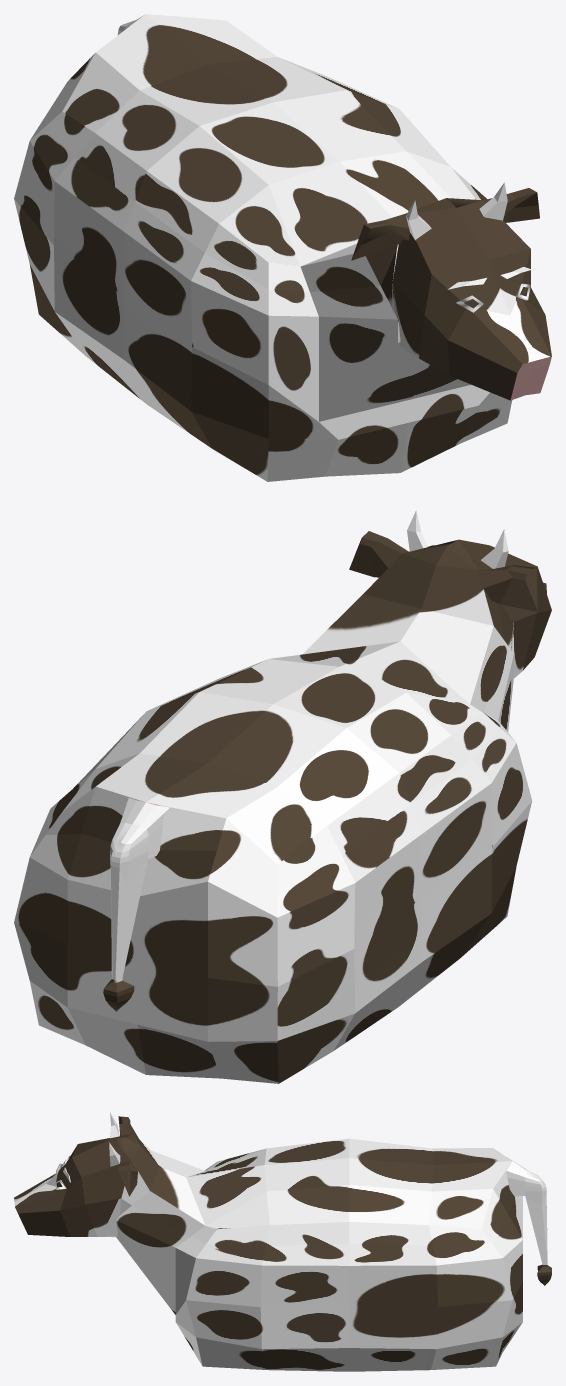
Rendered from KahverengiInekSon 1.fbx.
3 views of the same model, one above another, from view 1: azimuth 30°, elevation 25°; view 2: azimuth 150°, elevation 25°; view 3: azimuth 270°, elevation 25° (orthographic). The views are drawn at different scales.
Parts seen in each view (by area): view 1: KahverengiInekSon; view 2: KahverengiInekSon; view 3: KahverengiInekSon.
Part boxes in pixels (<box>): KahverengiInekSon: <box>14,14,551,481</box>; KahverengiInekSon: <box>14,510,551,1083</box>; KahverengiInekSon: <box>14,1113,551,1371</box>.
Size of the model in its own units: 2.49 by 2.63 by 5.94.
